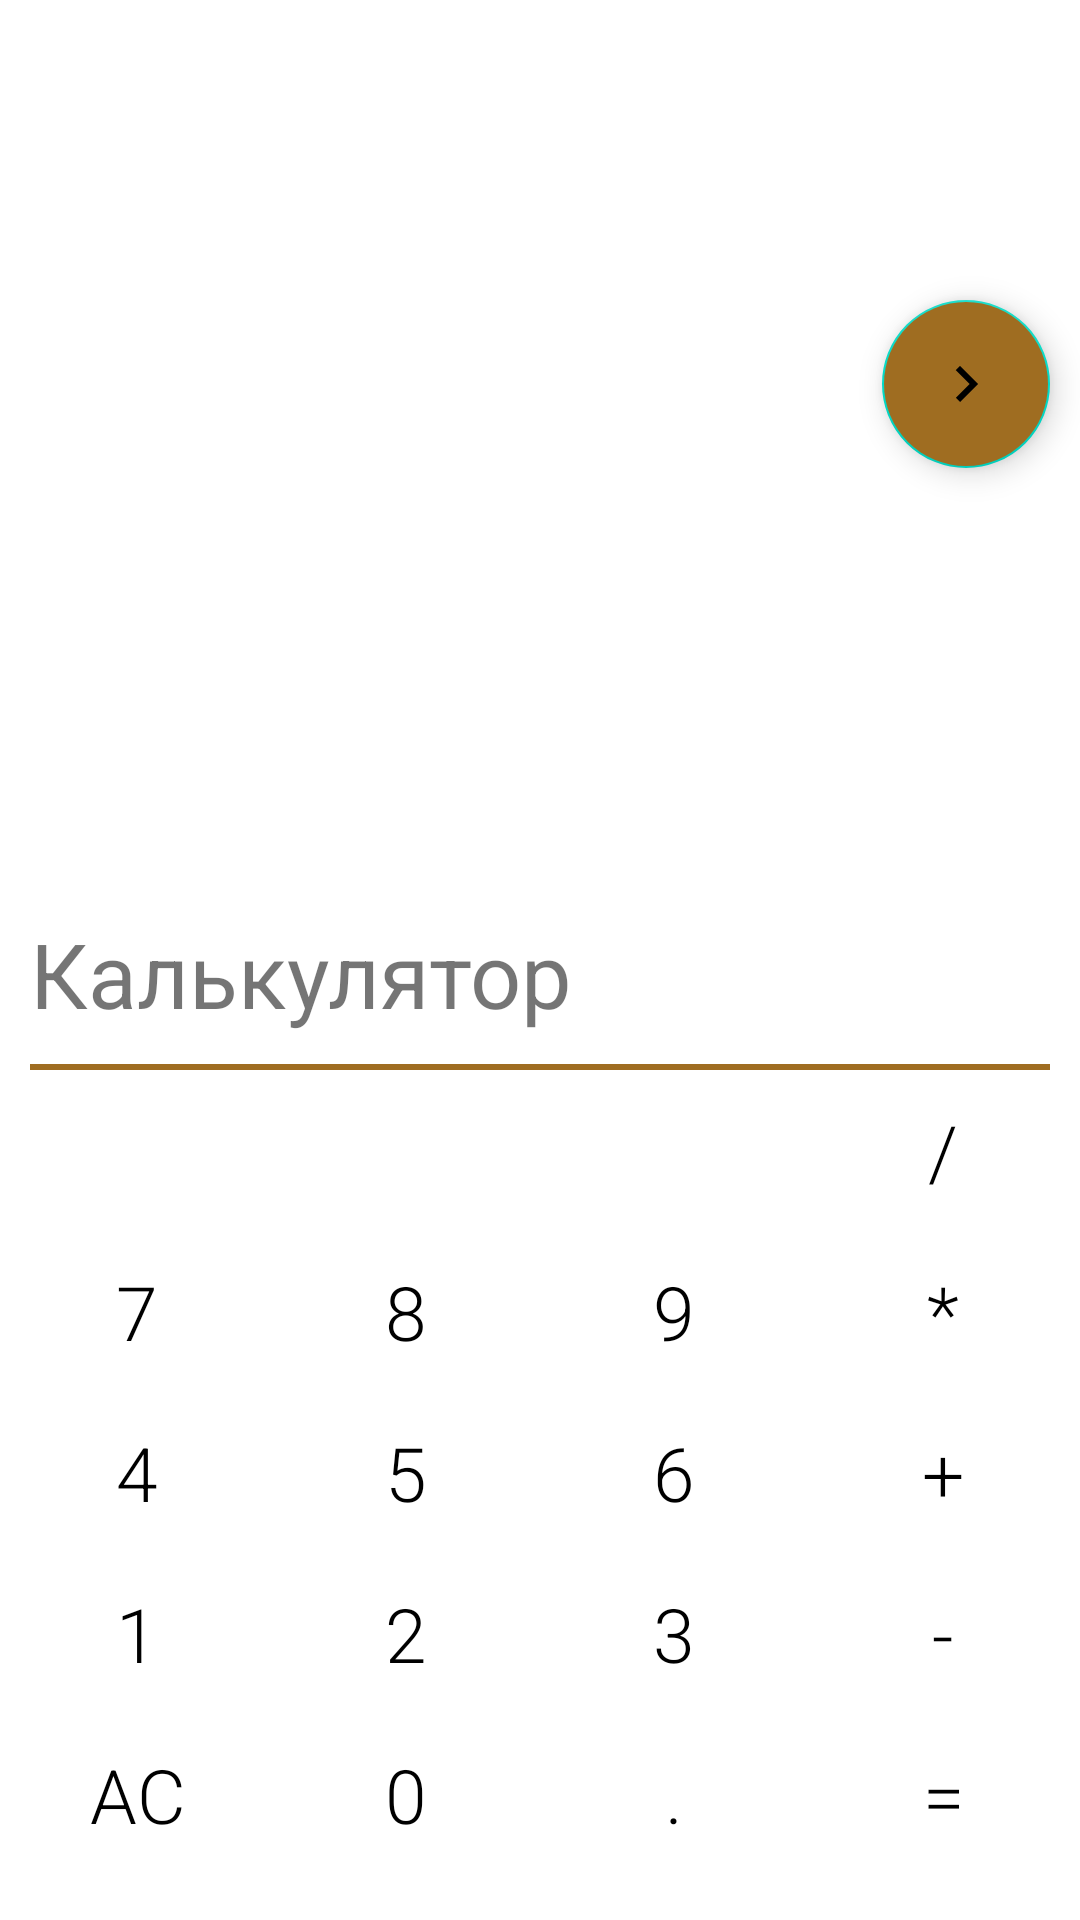

Screen size 1080px×1920px. Icon name, then its center in pixels as [x,y]:
settings forward: [966,384]
